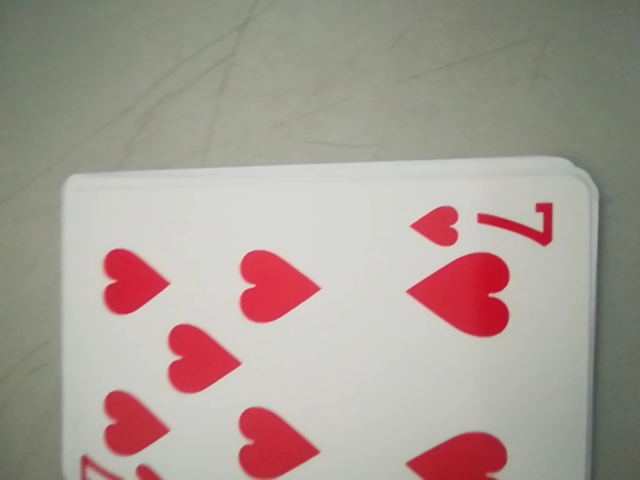hx 7: (405, 191, 560, 255)
